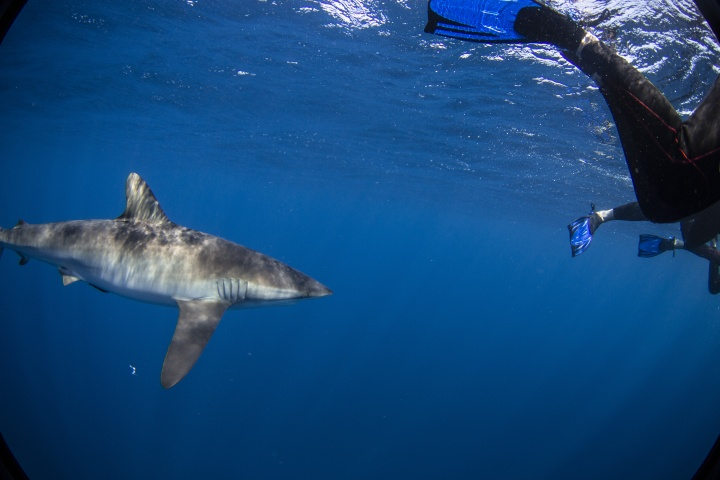Sedoso: (1, 166, 345, 408)
